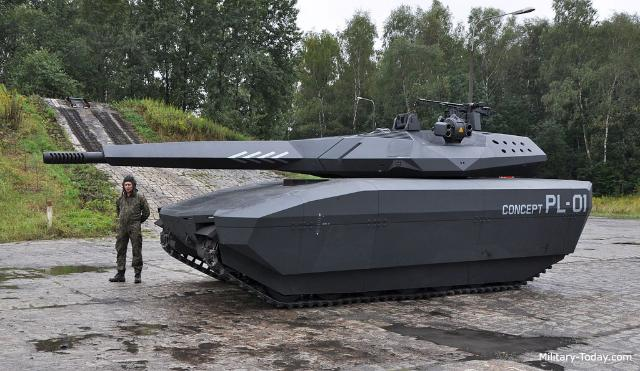other: (116, 169, 148, 282)
tank: (165, 108, 587, 293)
